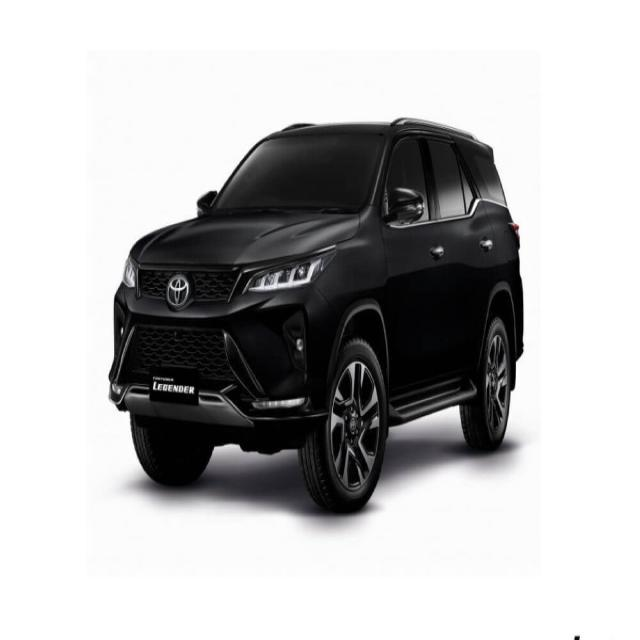light_vehicle: (107, 118, 525, 515)
